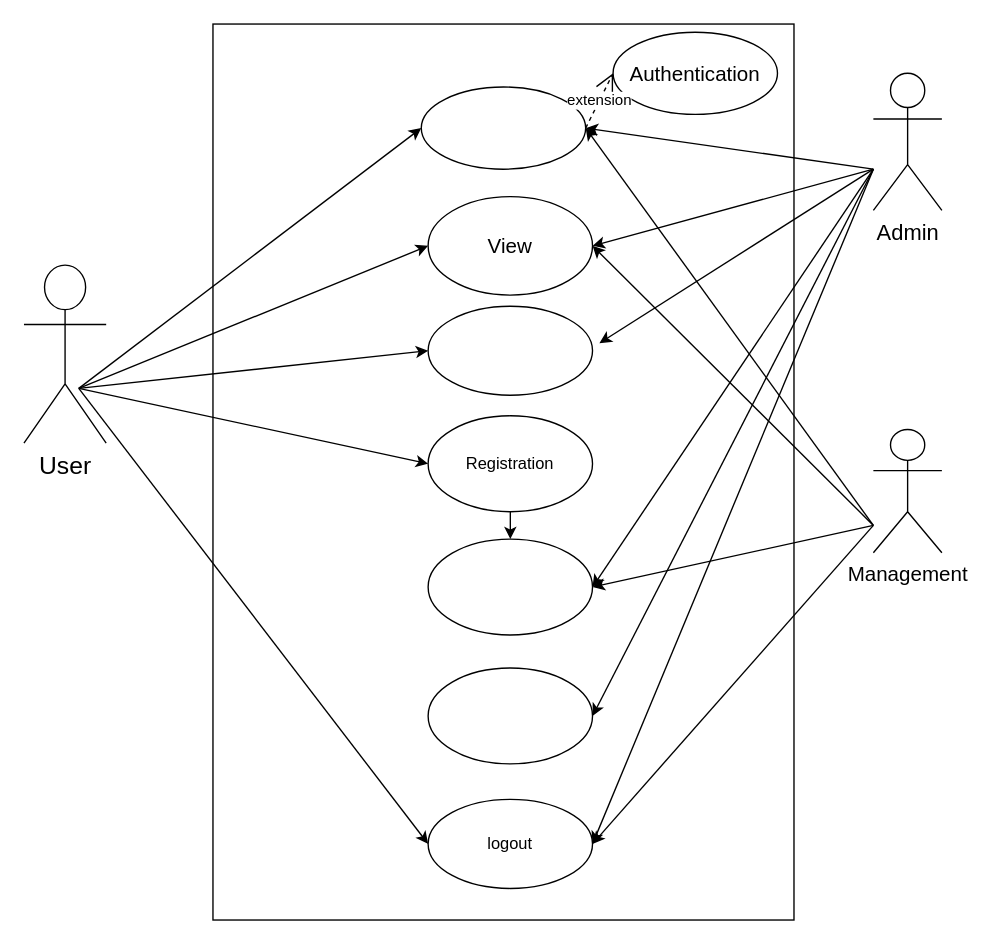
The diagram is 992 pixels wide and 944 high, and some of its shapes have lost their labels. The shapes that lost their labels are listed below. From the top down, each one's centre as x and y in pixels, then its label:
the point at 503,127: Login
the point at 510,350: Edit
the point at 510,586: verify
the point at 510,715: delete
